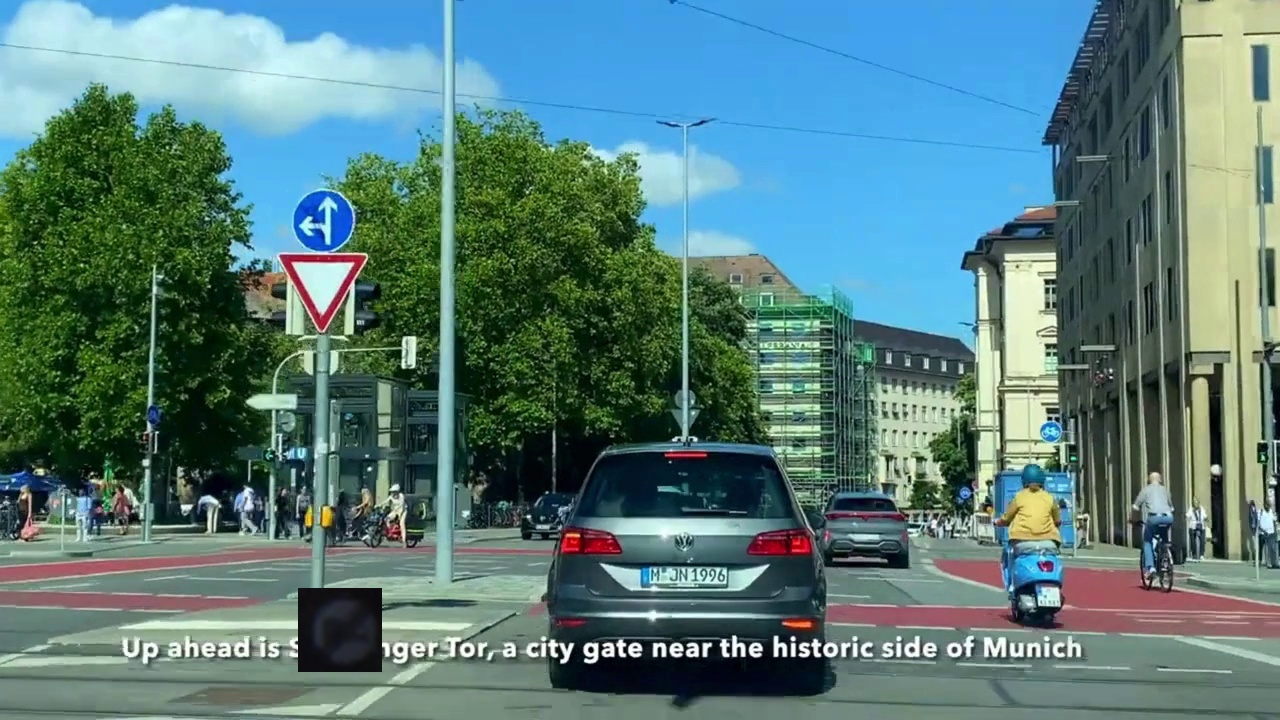End no pass >3.5t: (298, 588, 382, 672)
